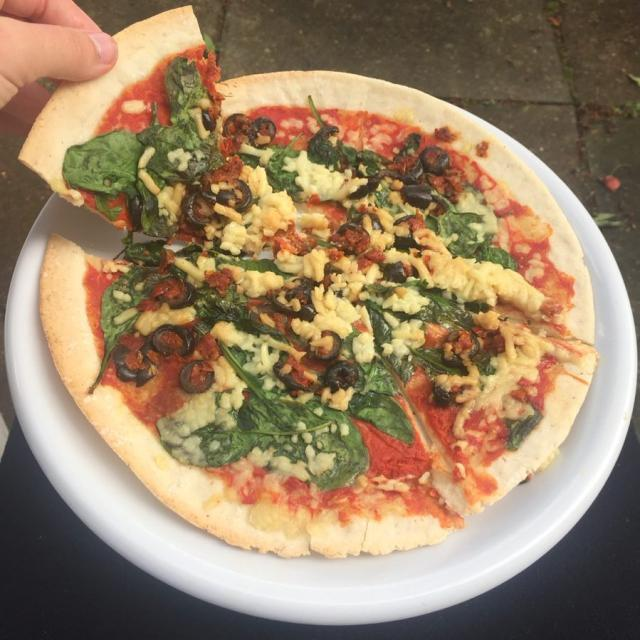basil: (158, 376, 368, 489), (356, 304, 430, 477), (150, 56, 222, 181), (100, 260, 169, 374), (194, 284, 290, 342), (62, 130, 142, 196), (438, 210, 516, 269), (498, 403, 563, 453), (218, 340, 268, 400), (412, 286, 475, 332), (266, 146, 301, 200), (412, 348, 466, 376), (308, 125, 340, 167), (174, 244, 216, 274), (236, 258, 292, 280), (237, 272, 280, 296), (349, 174, 380, 200), (138, 188, 158, 220), (178, 266, 204, 282)
pizza: (21, 9, 598, 557)
